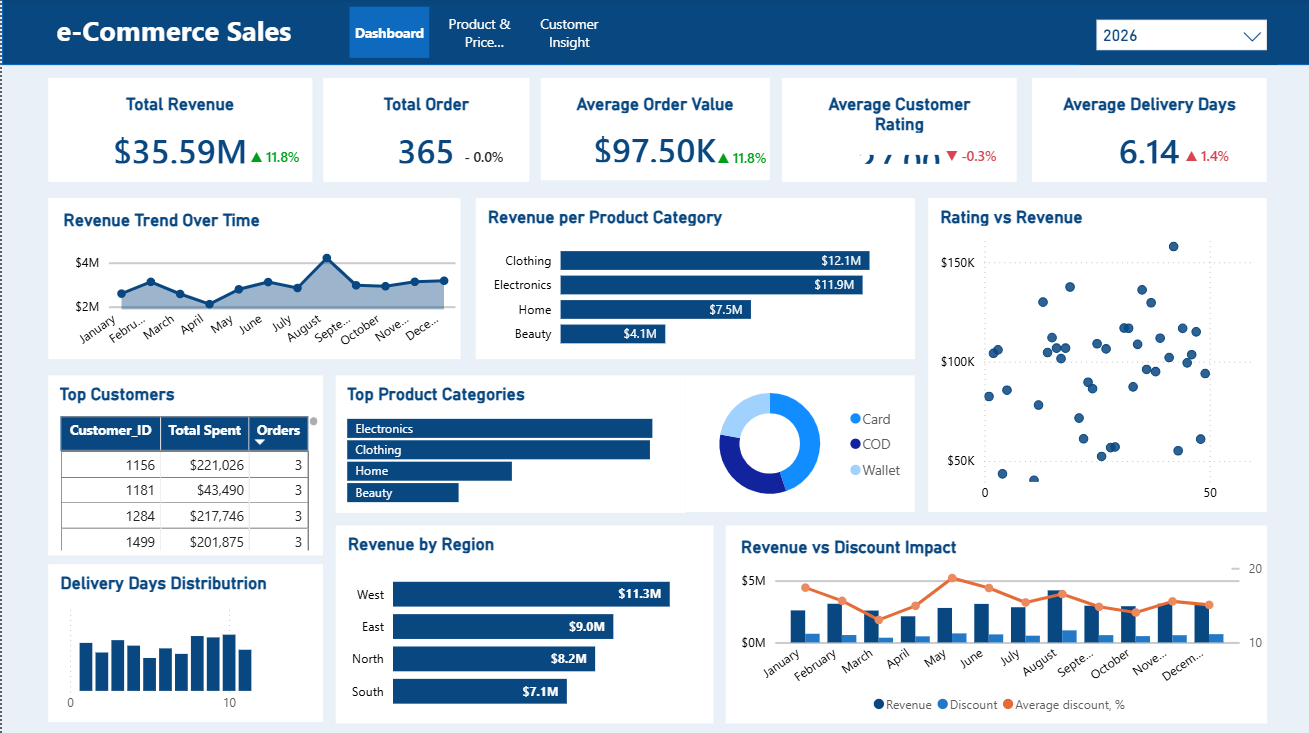

The page's visual inventory and layout, read from the dashboard file:
{"tool":"powerbi","page":{"name":"Dashboard","canvas":[1280,720],"ordinal":0},"visuals":[{"type":"cardVisual","title":"Total Revenue","fields":{"Data":["Sum(ecommerce_sales_analytics_5000.revenue)"]},"box":[45.2,78.3,258,101.5],"z":0},{"type":"shape","box":[0,0,1280,65.7],"z":1000},{"type":"textbox","box":[11,8.6,292.3,50.1],"z":2000},{"type":"cardVisual","title":"Total Order","fields":{"Data":["ecommerce_sales_analytics_5000.TotalOrder"]},"box":[314.3,78.3,201.8,101.5],"z":3000},{"type":"cardVisual","title":"Average Order Value","fields":{"Data":["ecommerce_sales_analytics_5000.Avg_Order_value"]},"box":[527,78.3,223.8,100.3],"z":4000},{"type":"cardVisual","title":"Average Customer Rating","fields":{"Data":["ecommerce_sales_analytics_5000.Avg_Cust_Rating"]},"box":[763,78.3,229.9,101.5],"z":5000},{"type":"cardVisual","title":"Average Delivery Days","fields":{"Data":["ecommerce_sales_analytics_5000.Avg_Deli_Days"]},"box":[1007.6,78.3,229.9,101.5],"z":6000},{"type":"stackedAreaChart","title":"Revenue Trend Over Time","fields":{"Y":["Sum(ecommerce_sales_analytics_5000.revenue)"],"Category":["ecommerce_sales_analytics_5000.order_date.Variation.Date Hierarchy.Month"]},"box":[45.2,195.7,403.5,157.7],"z":7000},{"type":"lineClusteredColumnComboChart","title":"Revenue vs Discount Impact","fields":{"Category":["ecommerce_sales_analytics_5000.order_date.Variation.Date Hierarchy.Month"],"Y":["Sum(ecommerce_sales_analytics_5000.revenue)","Sum(ecommerce_sales_analytics_5000.discount_value)"],"Y2":["ecommerce_sales_analytics_5000.Avg_Disc"]},"box":[708,516,529.5,193.2],"z":8000},{"type":"tableEx","title":"Top Customers","fields":{"Values":["ecommerce_sales_analytics_5000.customer_id","Sum(ecommerce_sales_analytics_5000.revenue)","Count(ecommerce_sales_analytics_5000.order_id)"]},"box":[45.2,369.3,269,176.1],"z":9000},{"type":"clusteredBarChart","title":"Top Product Categories","fields":{"Category":["ecommerce_sales_analytics_5000.product_category"],"Y":["Count(ecommerce_sales_analytics_5000.order_id)"]},"box":[326.5,369.3,342.4,134.5],"z":10000},{"type":"donutChart","fields":{"Category":["ecommerce_sales_analytics_5000.payment_method"],"Y":["Count(ecommerce_sales_analytics_5000.order_id)"]},"box":[668.9,369.3,223.8,133.3],"z":11000},{"type":"clusteredColumnChart","title":"Delivery Days Distributrion","fields":{"Category":["ecommerce_sales_analytics_5000.delivery_days"],"Y":["Count(ecommerce_sales_analytics_5000.order_id)"]},"box":[45.2,553.9,269,154.1],"z":12000},{"type":"clusteredBarChart","title":"Revenue by Region","fields":{"Category":["ecommerce_sales_analytics_5000.region"],"Y":["Sum(ecommerce_sales_analytics_5000.revenue)"]},"box":[326.5,516,369.3,193.2],"z":13000},{"type":"scatterChart","title":"Rating vs Revenue","fields":{"Y":["Avg(ecommerce_sales_analytics_5000.revenue)"],"Category":["ecommerce_sales_analytics_5000.customer_rating"],"X":["Avg(ecommerce_sales_analytics_5000.customer_rating)"]},"box":[906.1,195.7,331.4,306.9],"z":14000},{"type":"slicer","title":"Year","fields":{"Values":["ecommerce_sales_analytics_5000.order_date.Variation.Date Hierarchy.Year"]},"box":[1054.4,8.9,193.3,56.7],"z":15000},{"type":"clusteredBarChart","title":"Revenue per Product Category","fields":{"Y":["Sum(ecommerce_sales_analytics_5000.revenue)"],"Category":["ecommerce_sales_analytics_5000.product_category"]},"box":[463.5,195.7,429.2,157.7],"z":16000},{"type":"cardVisual","fields":{"Data":["ecommerce_sales_analytics_5000.Growth_revenue_Display"]},"box":[207.9,128.4,118.6,50.1],"z":17000},{"type":"cardVisual","fields":{"Data":["ecommerce_sales_analytics_5000.Growth_order_Display"]},"box":[413.3,128.4,116.2,50.1],"z":18000},{"type":"cardVisual","fields":{"Data":["ecommerce_sales_analytics_5000.Growth_avg_revenue_Display"]},"box":[667.7,129.6,112.5,50.1],"z":19000},{"type":"cardVisual","fields":{"Data":["ecommerce_sales_analytics_5000.Growth_avg_rating_Display"]},"box":[889.2,129,118,49.4],"z":20000},{"type":"cardVisual","fields":{"Data":["ecommerce_sales_analytics_5000.Growth_avg_delidays_Display"]},"box":[1119.7,129,118,49.4],"z":21000},{"type":"textbox","box":[22,8.6,292.3,50.1],"z":22000},{"type":"pageNavigator","box":[339.9,8.6,256.8,50.1],"z":23000}]}

Visuals, with their boxes in screenshot pixels (x1, y1, x2, y2), scaled from the page's 1280x720 canvas onto the 1309x733 screenshot:
"Total Revenue" cardVisual: select_region(46, 80, 310, 183)
shape: select_region(0, 0, 1308, 67)
textbox: select_region(11, 9, 310, 60)
"Total Order" cardVisual: select_region(321, 80, 528, 183)
"Average Order Value" cardVisual: select_region(539, 80, 768, 182)
"Average Customer Rating" cardVisual: select_region(780, 80, 1015, 183)
"Average Delivery Days" cardVisual: select_region(1030, 80, 1266, 183)
"Revenue Trend Over Time" stackedAreaChart: select_region(46, 199, 459, 360)
"Revenue vs Discount Impact" lineClusteredColumnComboChart: select_region(724, 525, 1266, 722)
"Top Customers" tableEx: select_region(46, 376, 321, 555)
"Top Product Categories" clusteredBarChart: select_region(334, 376, 684, 513)
donutChart - ecommerce_sales_analytics_5000.payment_method x Count(ecommerce_sales_analytics_5000.order_id): select_region(684, 376, 913, 512)
"Delivery Days Distributrion" clusteredColumnChart: select_region(46, 564, 321, 721)
"Revenue by Region" clusteredBarChart: select_region(334, 525, 712, 722)
"Rating vs Revenue" scatterChart: select_region(927, 199, 1266, 512)
"Year" slicer: select_region(1078, 9, 1276, 67)
"Revenue per Product Category" clusteredBarChart: select_region(474, 199, 913, 360)
cardVisual - ecommerce_sales_analytics_5000.Growth_revenue_Display: select_region(213, 131, 334, 182)
cardVisual - ecommerce_sales_analytics_5000.Growth_order_Display: select_region(423, 131, 541, 182)
cardVisual - ecommerce_sales_analytics_5000.Growth_avg_revenue_Display: select_region(683, 132, 798, 183)
cardVisual - ecommerce_sales_analytics_5000.Growth_avg_rating_Display: select_region(909, 131, 1030, 182)
cardVisual - ecommerce_sales_analytics_5000.Growth_avg_delidays_Display: select_region(1145, 131, 1266, 182)
textbox: select_region(22, 9, 321, 60)
pageNavigator: select_region(348, 9, 610, 60)
